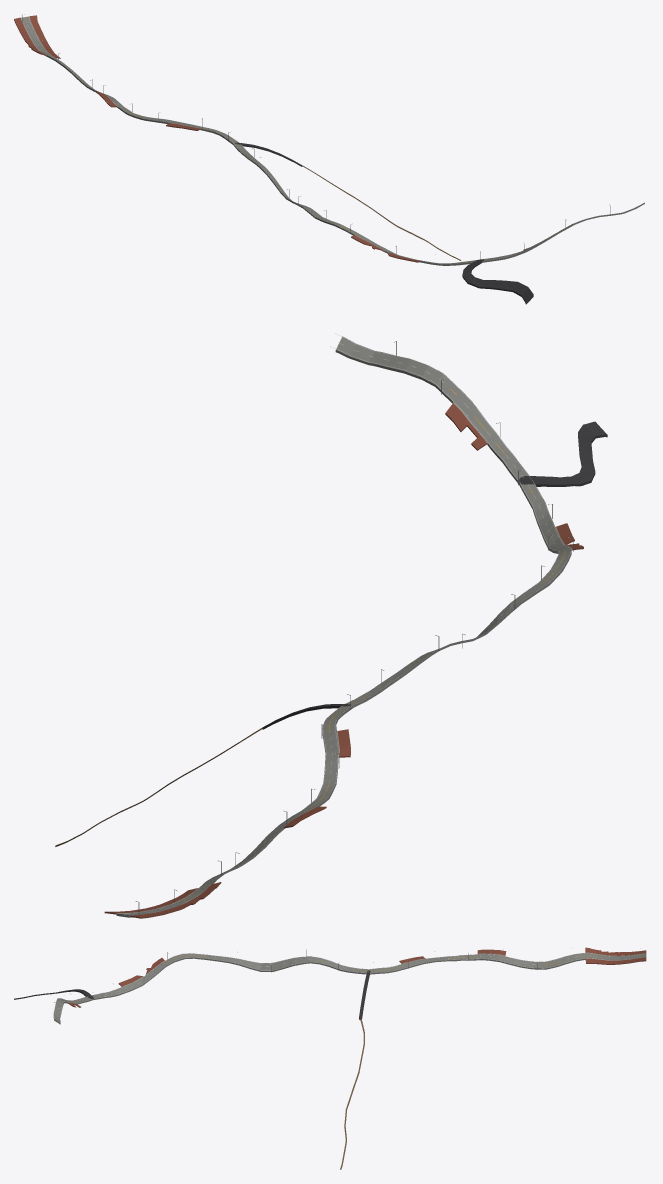
3 views of the same model, one above another, from view 1: azimuth 30°, elevation 25°; view 2: azimuth 150°, elevation 25°; view 3: azimuth 270°, elevation 25° (orthographic). The views are drawn at different scales.
Size of the model in its own units: 222 by 157 by 586.
